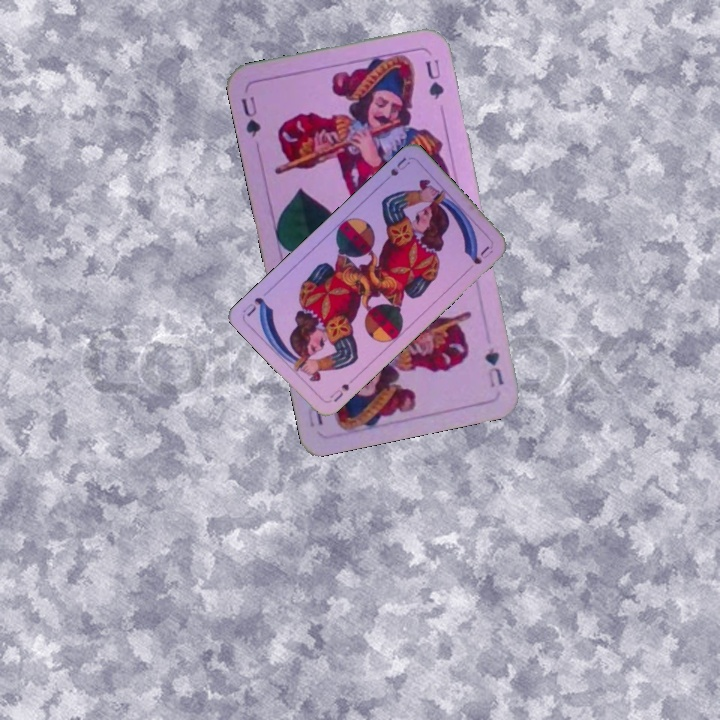GU: (480, 343, 507, 390), (237, 92, 263, 140)
SU: (325, 374, 358, 405), (386, 153, 413, 179)
